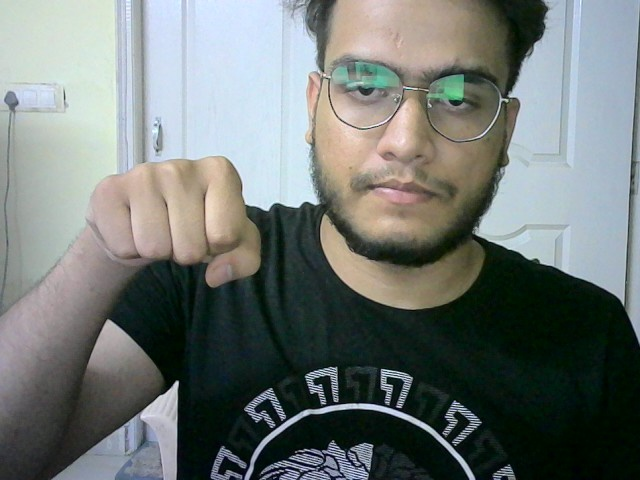Yes: (74, 145, 273, 303)
